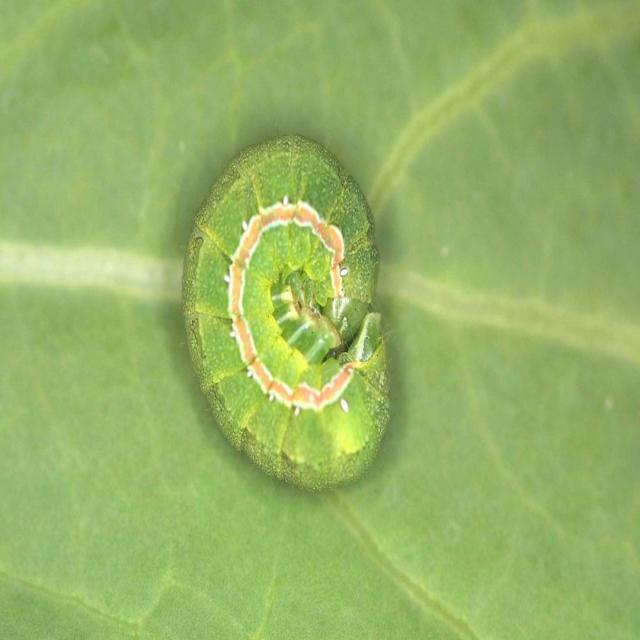armyworm: (185, 138, 390, 490)
